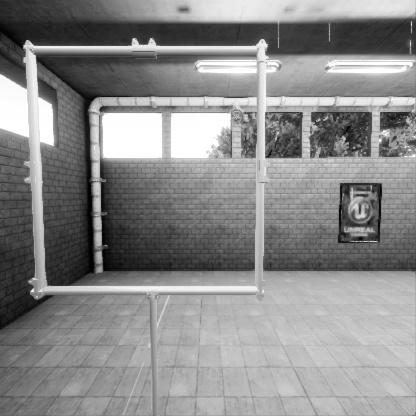gate: (22, 127, 288, 387)
